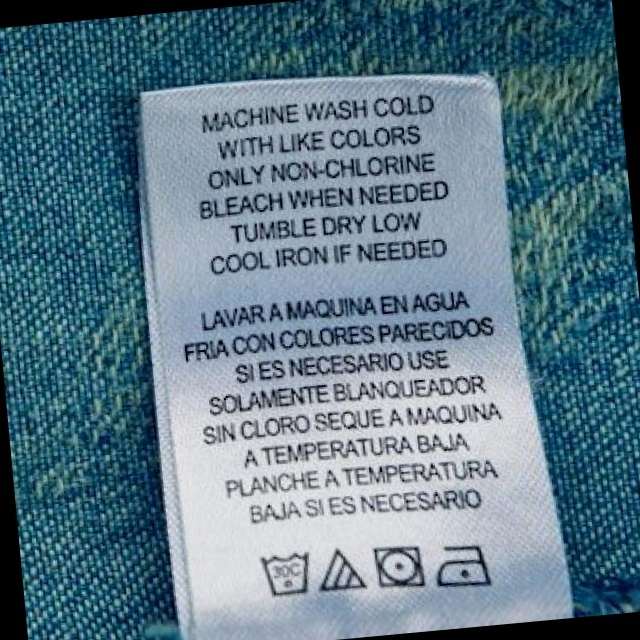30C: (259, 541, 317, 600)
iron_low: (430, 536, 493, 594)
non_chlorine_bleach: (318, 545, 365, 595)
tumble_dry_low: (370, 538, 435, 596)
